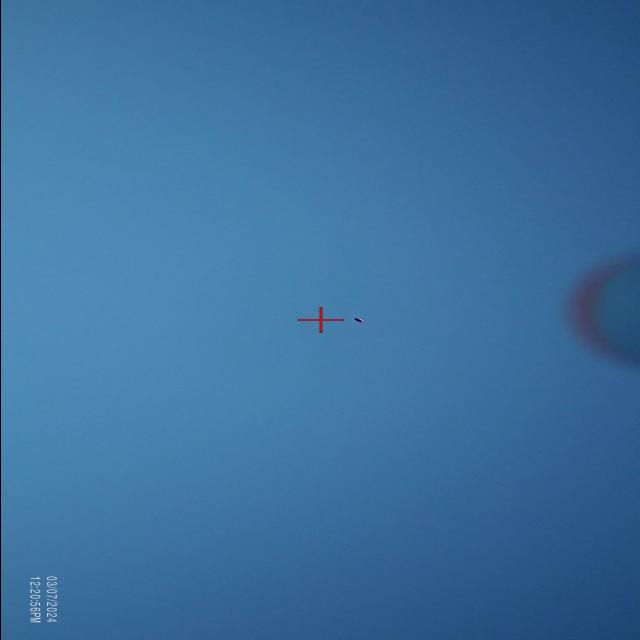entire: (349, 312, 369, 326)
